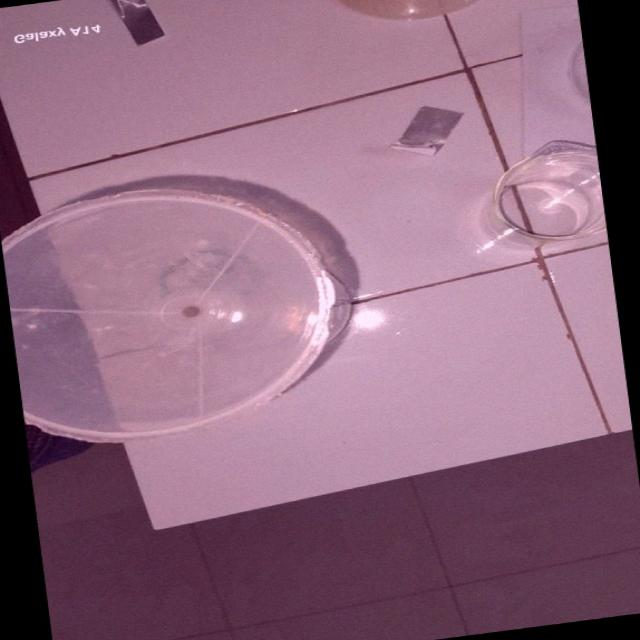Funnel: (0, 156, 353, 456)
